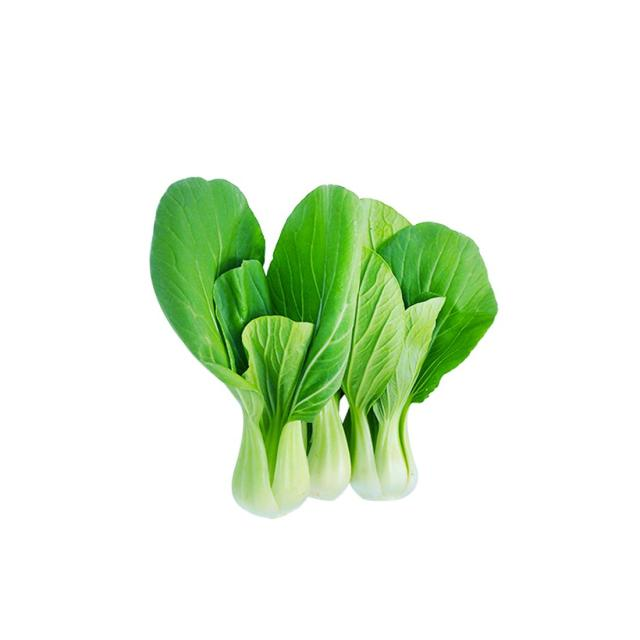bokchoy: (147, 170, 512, 524)
